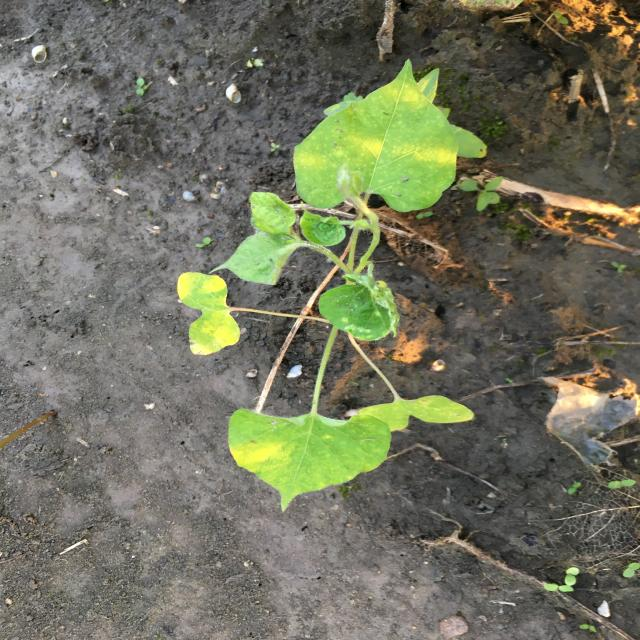MorningGlory: (174, 57, 491, 515)
